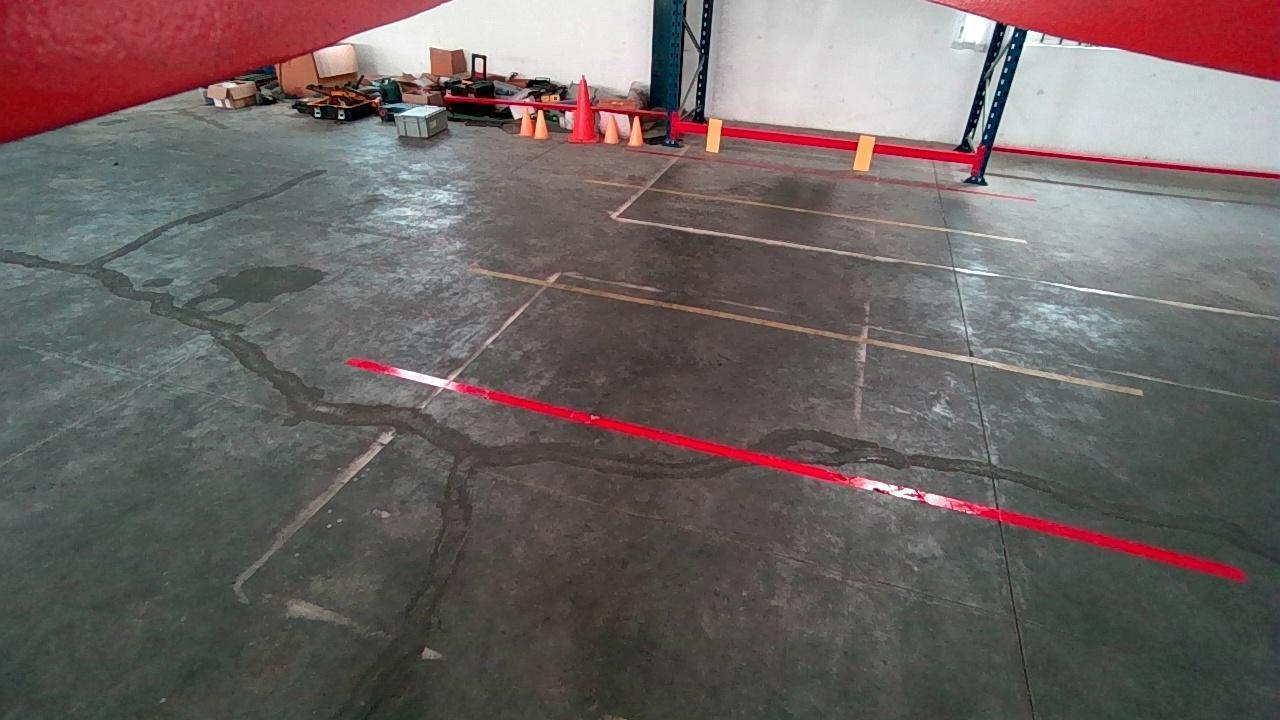h_rack: (675, 121, 972, 165)
orange_strip: (853, 134, 877, 171), (705, 119, 722, 152)
red_line: (345, 356, 1244, 581), (626, 147, 1038, 203)
yellow_line: (469, 265, 1144, 397), (588, 177, 1028, 243)
